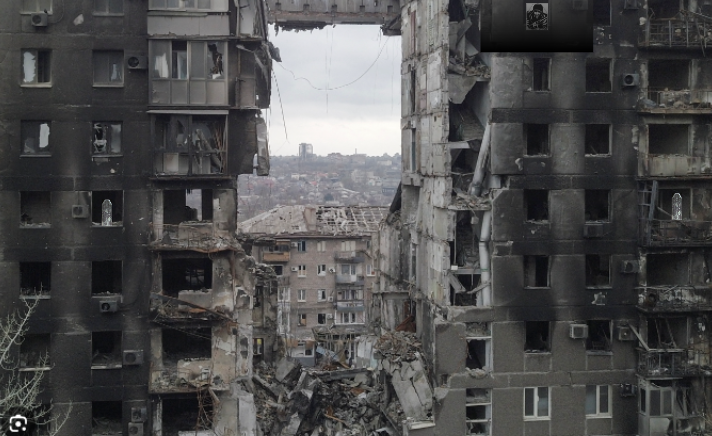HVT1: (526, 3, 547, 31), (101, 199, 112, 225), (671, 193, 682, 219)
